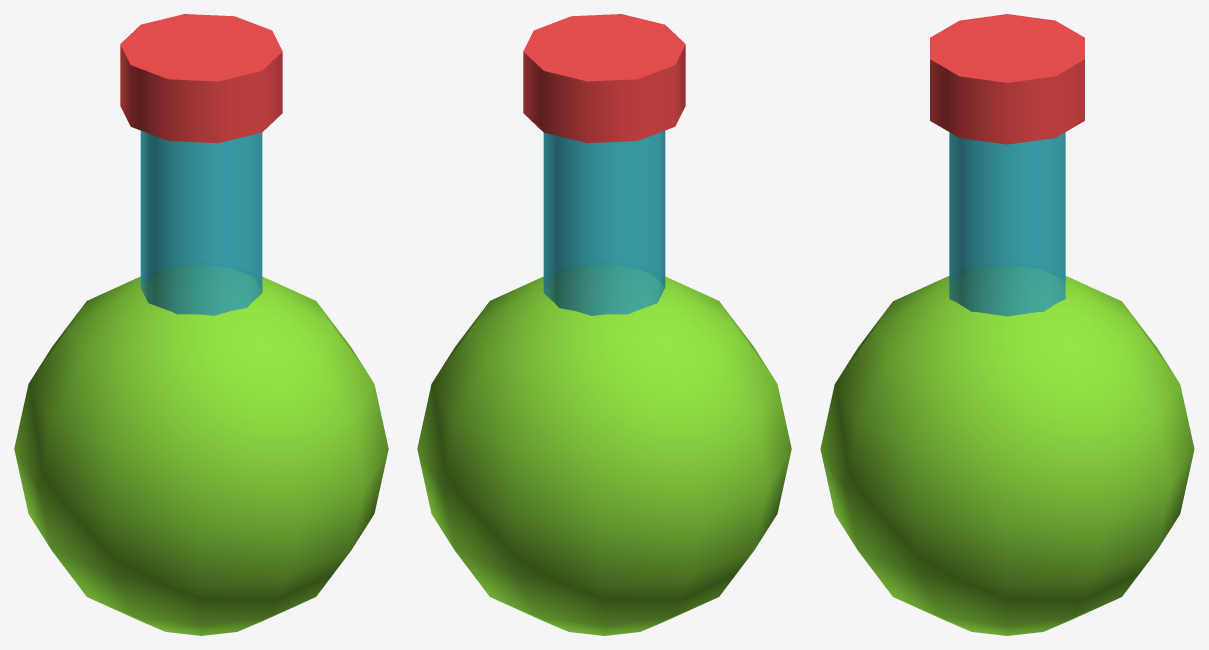
File: TitanBuddy.fbx
3 views of the same model, side by side, from view 1: azimuth 30°, elevation 25°; view 2: azimuth 150°, elevation 25°; view 3: azimuth 270°, elevation 25° (orthographic).
Visible parts, largest first — view 1: TitanBuddy; view 2: TitanBuddy; view 3: TitanBuddy.
Boxes of the visible parts, x1,y1,x2,y2 form: TitanBuddy: [14, 14, 388, 635]; TitanBuddy: [417, 14, 791, 635]; TitanBuddy: [820, 14, 1194, 635].
Bounding box in the file's own units: 0.11 × 0.185 × 0.11.
